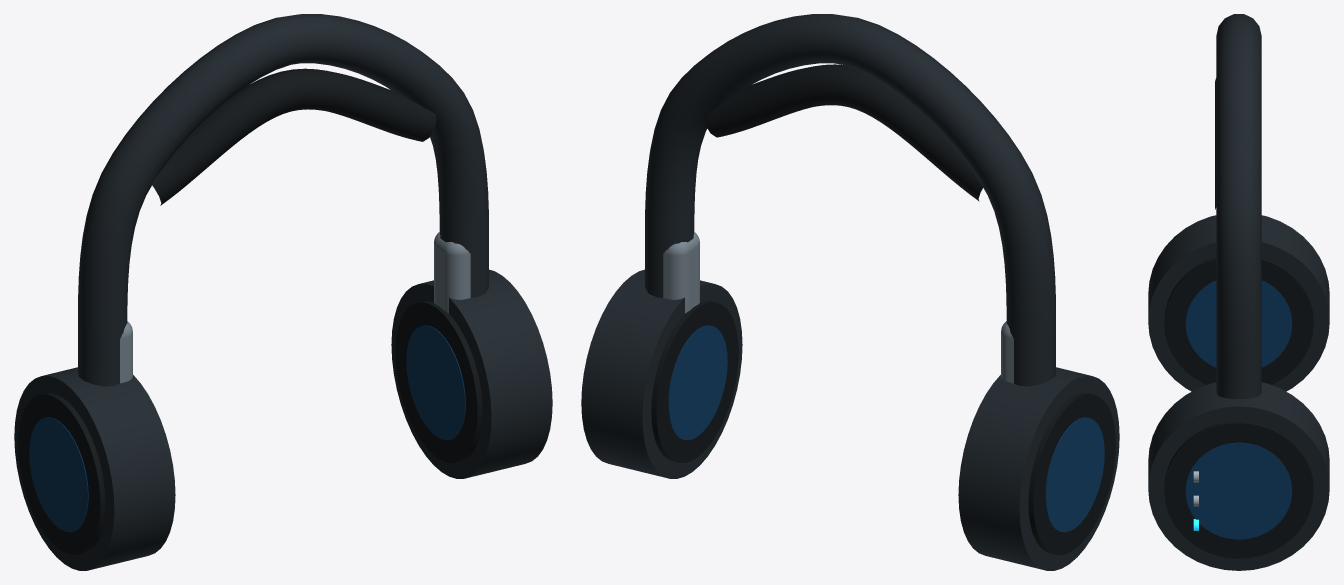
Rendered from headphones.glb.
3 renders of one model, left to right at view 1: azimuth 30°, elevation 25°; view 2: azimuth 150°, elevation 25°; view 3: azimuth 270°, elevation 25°, orthographic. The views are drawn at different scales.
Parts seen in each view (by area): view 1: Sculpted headband, Ear cup (×2), Headband cushion, Memory foam cushion (×2), Driver cover (×2), Adjustable yoke (×2); view 2: Sculpted headband, Ear cup (×2), Memory foam cushion (×2), Headband cushion, Driver cover (×2), Adjustable yoke (×2); view 3: Ear cup (×2), Sculpted headband, Memory foam cushion (×2), Driver cover (×2), Headband cushion.
Boxes of the visible parts, x1,y1,x2,y2 form: Sculpted headband: (78, 14, 488, 386); Ear cup (×2): (14, 269, 552, 570); Headband cushion: (151, 68, 436, 205); Memory foam cushion (×2): (18, 301, 482, 554); Driver cover (×2): (29, 325, 465, 532); Adjustable yoke (×2): (120, 232, 470, 383); Sculpted headband: (645, 14, 1055, 386); Ear cup (×2): (581, 269, 1119, 570); Memory foam cushion (×2): (651, 301, 1115, 554); Headband cushion: (704, 64, 982, 201); Driver cover (×2): (668, 325, 1104, 532); Adjustable yoke (×2): (663, 232, 1013, 383); Ear cup (×2): (1148, 215, 1329, 570); Sculpted headband: (1216, 14, 1261, 399); Memory foam cushion (×2): (1164, 257, 1313, 558); Driver cover (×2): (1185, 280, 1292, 539); Headband cushion: (1215, 78, 1216, 209).
Bounding box in the file's own units: 1.78 × 1.84 × 0.68.
